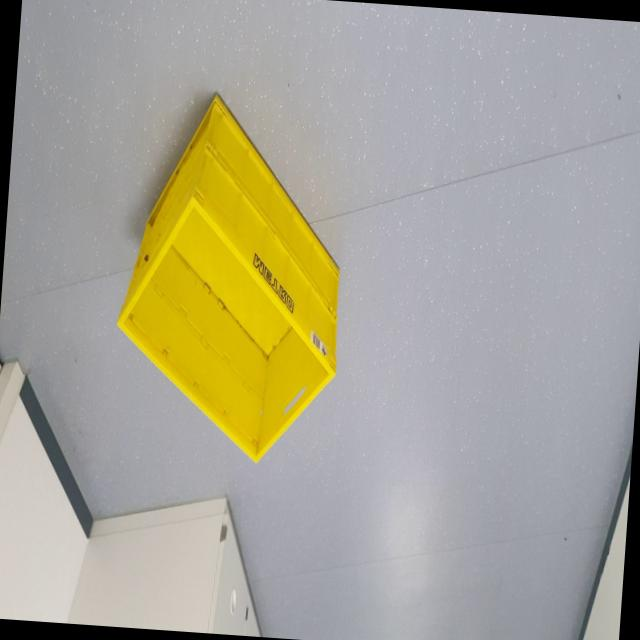box: (101, 78, 370, 488)
